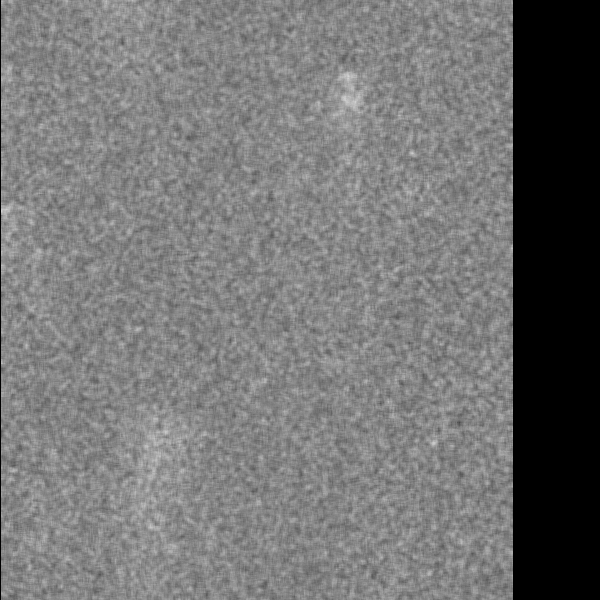spark: (325, 88, 371, 121), (149, 413, 176, 456)
